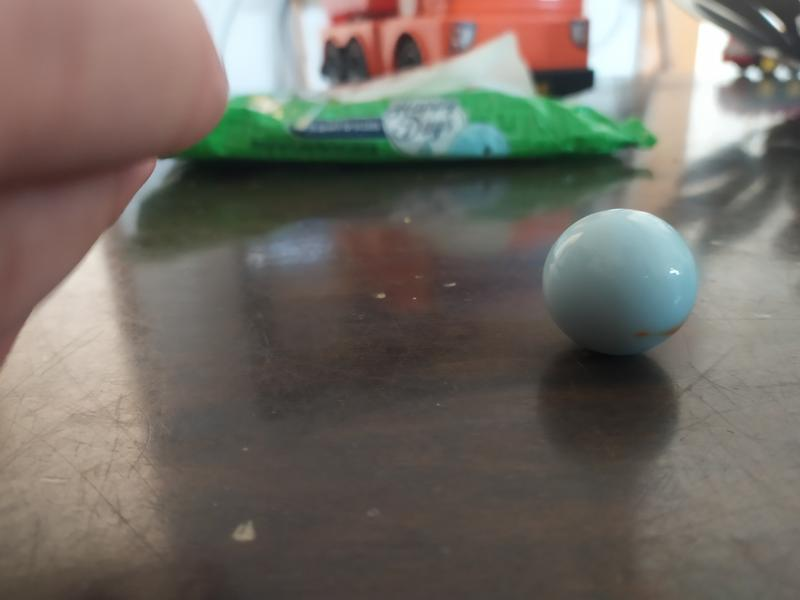Warning: (537, 205, 705, 360)
